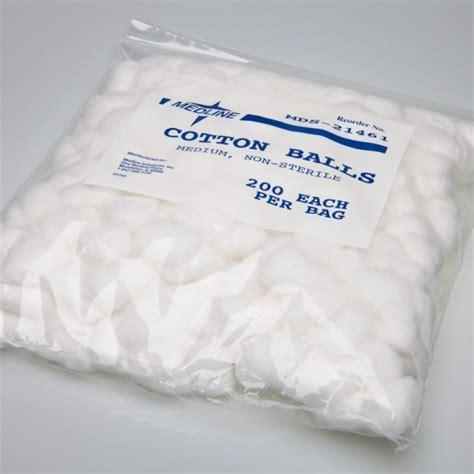cotton: (0, 36, 474, 474)
